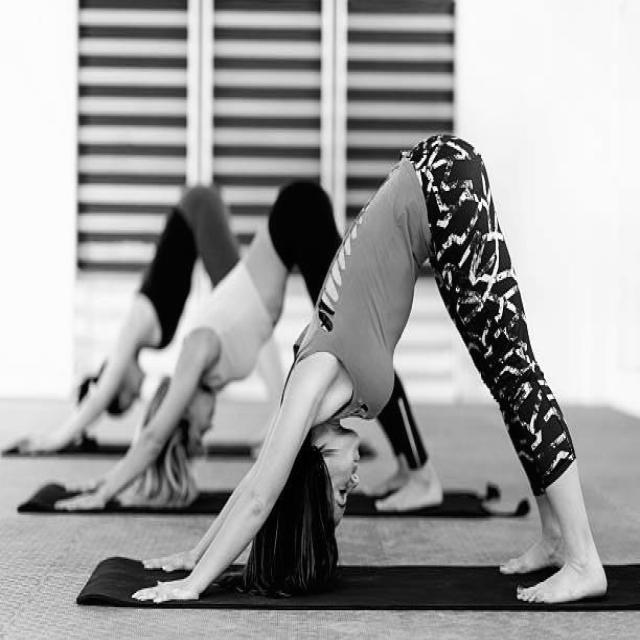Downward-Facing_Dog: (138, 131, 615, 607)
